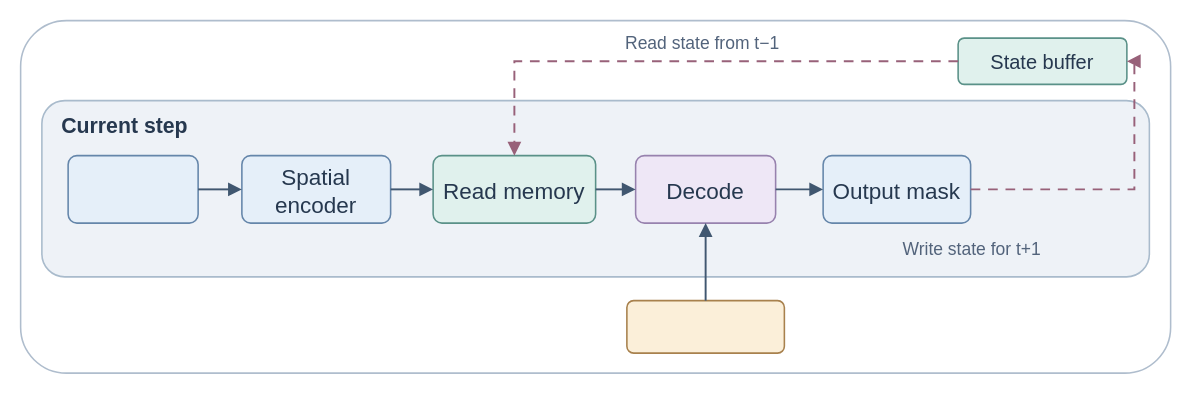
This 1191x394 diagram has some shape labels left out. The centre of each missing label's shape, as x and y in pixels:
"Frame t" goes at (x=132, y=188).
"Query prompt" goes at (x=705, y=326).
